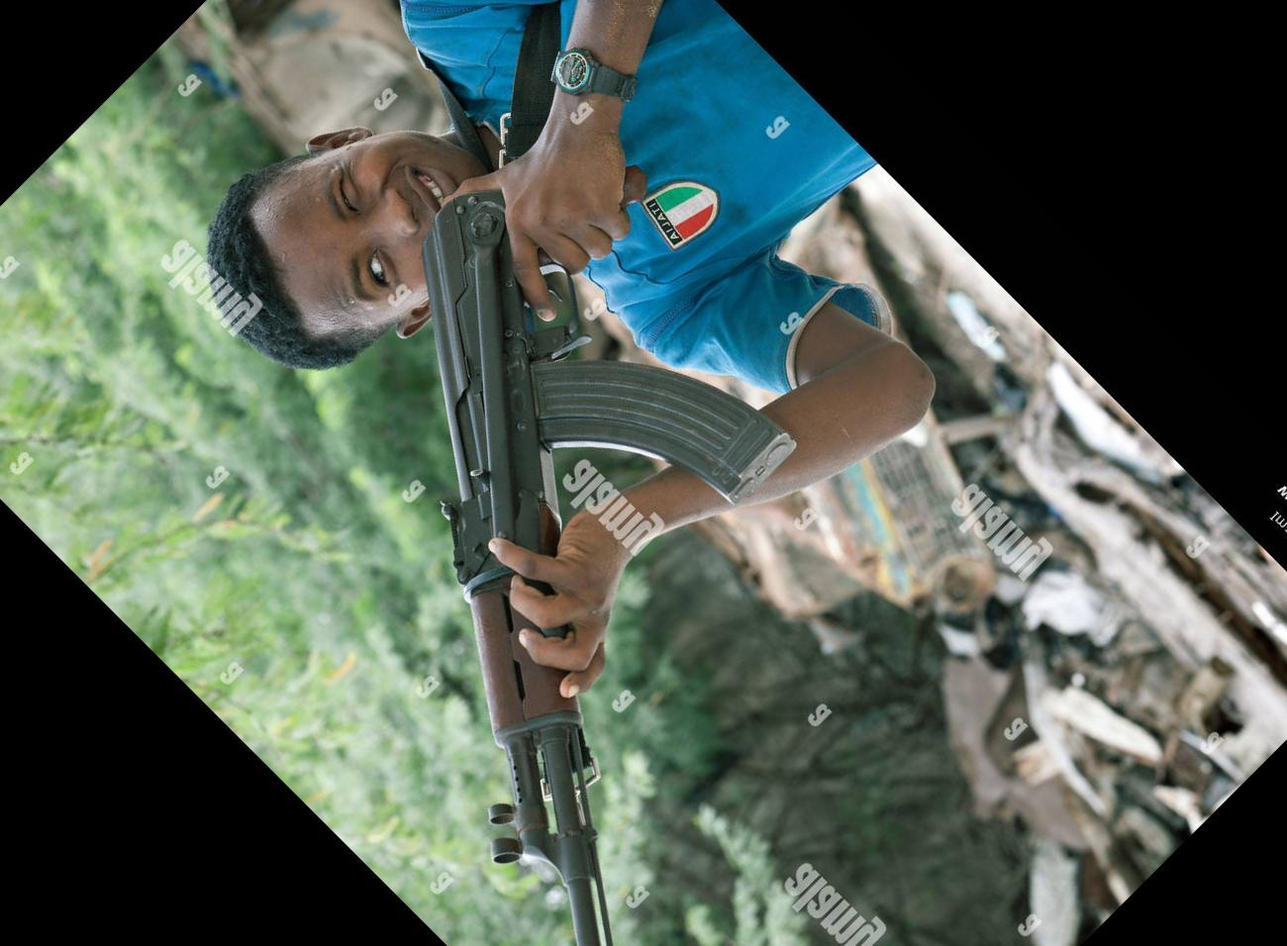larga: (416, 2, 797, 946)
